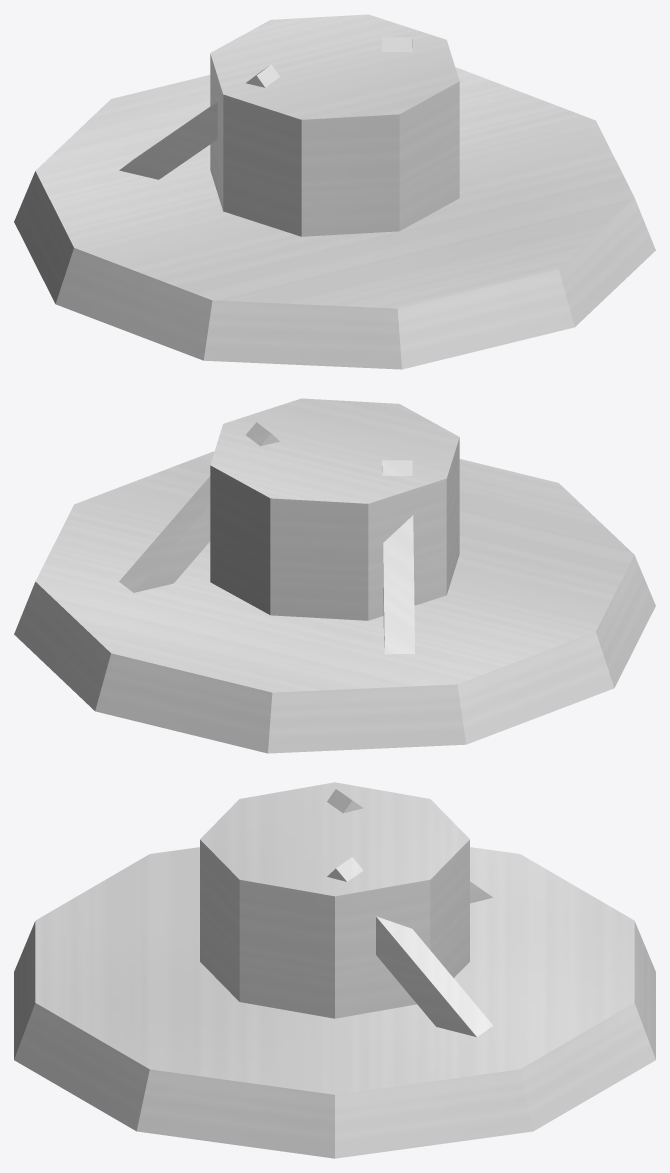
The model's file is turret_mortar.obj.
3 views of the same model, one above another, from view 1: azimuth 30°, elevation 25°; view 2: azimuth 150°, elevation 25°; view 3: azimuth 270°, elevation 25° (orthographic). The views are drawn at different scales.
Parts seen in each view (by area): view 1: turret_mortar; view 2: turret_mortar; view 3: turret_mortar.
Part boxes in pixels (x1,y1,x2,y2): turret_mortar: [14, 14, 655, 369]; turret_mortar: [14, 398, 655, 753]; turret_mortar: [14, 782, 655, 1158].
Size of the model in its own units: 0.9 by 0.2916 by 0.856.
